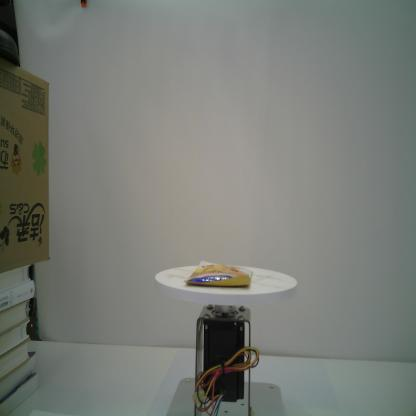Seasoner: (183, 260, 254, 288)
